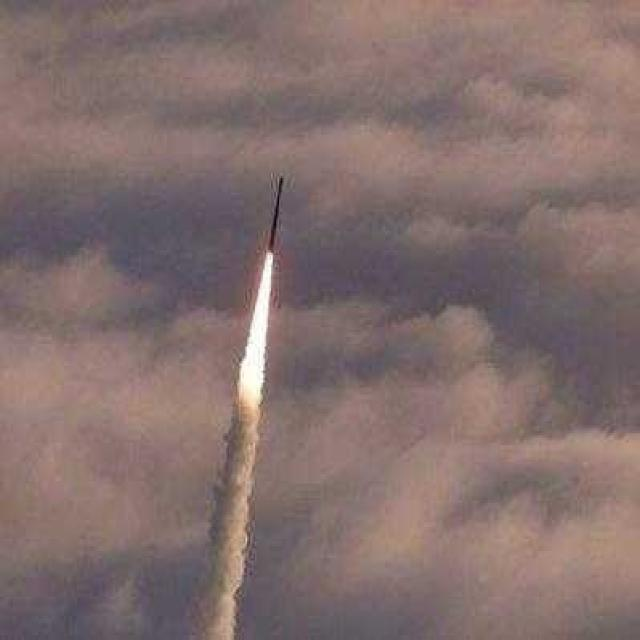missile: (264, 173, 290, 254)
